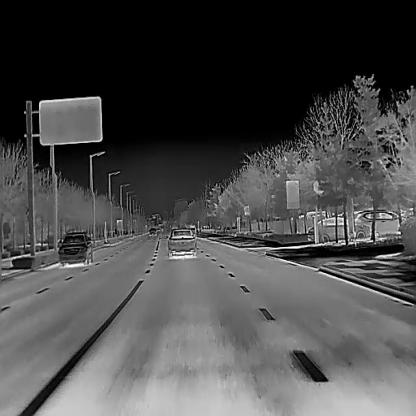car: (307, 216, 370, 242), (353, 208, 407, 238), (58, 231, 92, 265), (167, 228, 196, 257), (148, 226, 156, 236), (189, 226, 196, 234)
